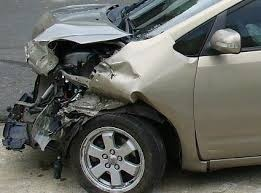Smashed: (2, 31, 151, 173)
